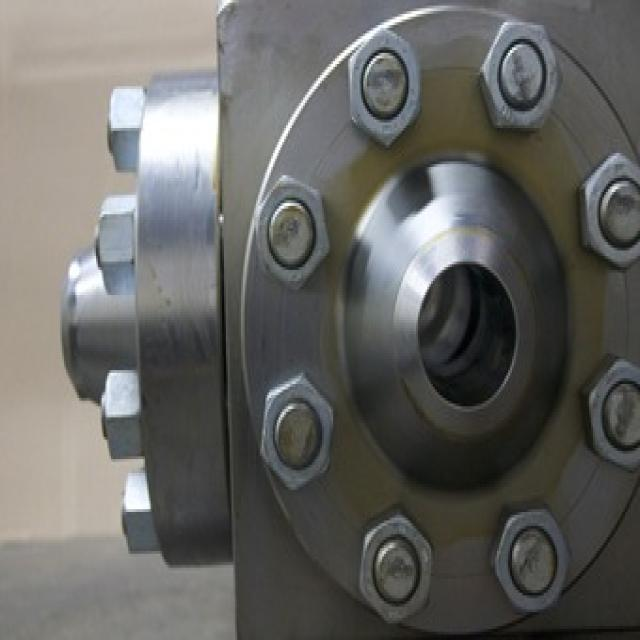bolt nut: (352, 504, 435, 629), (249, 173, 335, 292), (254, 373, 337, 495), (490, 498, 572, 621), (344, 22, 422, 150), (478, 14, 559, 136), (578, 142, 636, 273), (580, 348, 636, 473)
bolt side: (92, 192, 140, 298), (100, 362, 148, 459), (116, 468, 164, 556), (102, 78, 146, 172)
